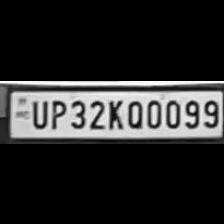0: (143, 96, 161, 127), (162, 96, 180, 127)
2: (87, 97, 105, 129)
3: (66, 96, 86, 128)
9: (200, 96, 220, 127), (182, 96, 200, 128)
K: (104, 97, 124, 129)
P: (47, 96, 65, 128)
Q: (124, 96, 142, 128)
U: (28, 96, 48, 128)
